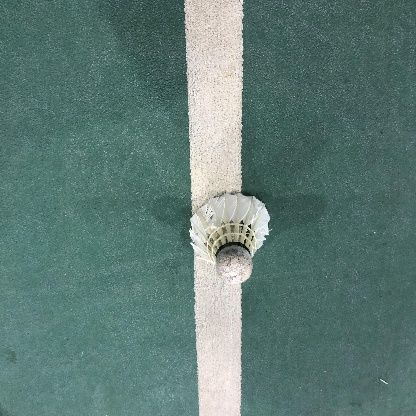ball_single: (189, 193, 270, 284)
